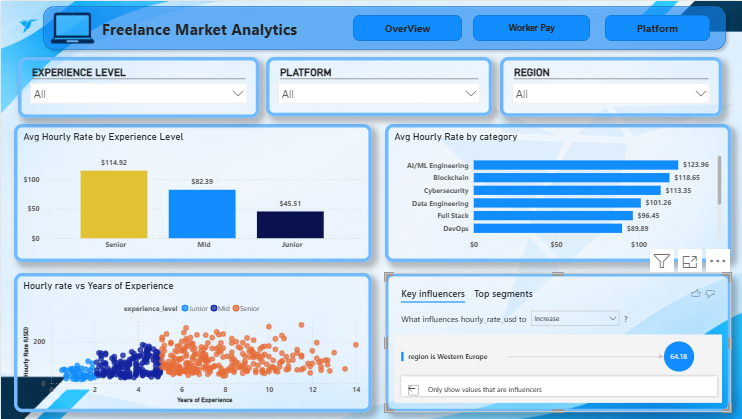

Layout of this report page (visuals, bound fields, positions):
{"tool":"powerbi","page":{"name":"Workers Pay","canvas":[1280,720],"ordinal":1},"visuals":[{"type":"image","box":[0,0,94.8,82.8],"z":0},{"type":"shape","box":[63.8,0,1194.8,93.1],"z":1},{"type":"image","box":[44.8,12.1,156.9,69],"z":2},{"type":"textbox","box":[169,24.1,406.9,69],"z":9},{"type":"columnChart","title":"Avg Hourly Rate by Experience Level","fields":{"Y":["_Measures.Avg Hourly Rate"],"Category":["dim_level.Level"]},"box":[22.4,212.1,617.2,237.9],"z":10},{"type":"barChart","fields":{"Y":["_Measures.Avg Hourly Rate"],"Category":["workers.category"]},"box":[662.1,212.1,596.6,237.9],"z":11},{"type":"scatterChart","title":"Hourly rate vs Years of Experience","fields":{"Category":["workers.freelancer_id"],"Series":["workers.experience_level"],"Y":["Sum(workers.hourly_rate_usd)"],"X":["Sum(workers.years_experience)"]},"box":[22.4,469,617.2,239.7],"z":12},{"type":"keyDriversVisual","fields":{"Target":["workers.hourly_rate_usd"],"ExplainBy":["workers.region","Sum(workers.years_experience)","workers.education","workers.category","workers.primary_platform"]},"box":[662.1,469,596.6,239.7],"z":13},{"type":"slicer","fields":{"Values":["workers.region"]},"box":[860.3,96.6,382.8,103.4],"z":14},{"type":"slicer","fields":{"Values":["workers.experience_level"]},"box":[29.3,96.6,415.5,105.2],"z":15},{"type":"slicer","fields":{"Values":["dim_platform.platform"]},"box":[456.9,96.6,389.7,101.7],"z":16},{"type":"shape","box":[606.9,24.1,187.9,44.8],"z":17},{"type":"shape","box":[813.8,24.1,201.7,44.8],"z":18},{"type":"shape","box":[1041.4,24.1,181,44.8],"z":19}]}

Visuals, with their boxes in screenshot pixels (x1, y1, x2, y2), scaled from the page's 1280x720 canvas onto the 742x419 screenshot:
image: left=0, top=0, right=55, bottom=48
shape: left=37, top=0, right=730, bottom=54
image: left=26, top=7, right=117, bottom=47
textbox: left=98, top=14, right=334, bottom=54
"Avg Hourly Rate by Experience Level" columnChart: left=13, top=123, right=371, bottom=262
barChart - _Measures.Avg Hourly Rate x workers.category: left=384, top=123, right=730, bottom=262
"Hourly rate vs Years of Experience" scatterChart: left=13, top=273, right=371, bottom=412
keyDriversVisual - workers.hourly_rate_usd x workers.region: left=384, top=273, right=730, bottom=412
slicer - workers.region: left=499, top=56, right=721, bottom=116
slicer - workers.experience_level: left=17, top=56, right=258, bottom=117
slicer - dim_platform.platform: left=265, top=56, right=491, bottom=115
shape: left=352, top=14, right=461, bottom=40
shape: left=472, top=14, right=589, bottom=40
shape: left=604, top=14, right=709, bottom=40
